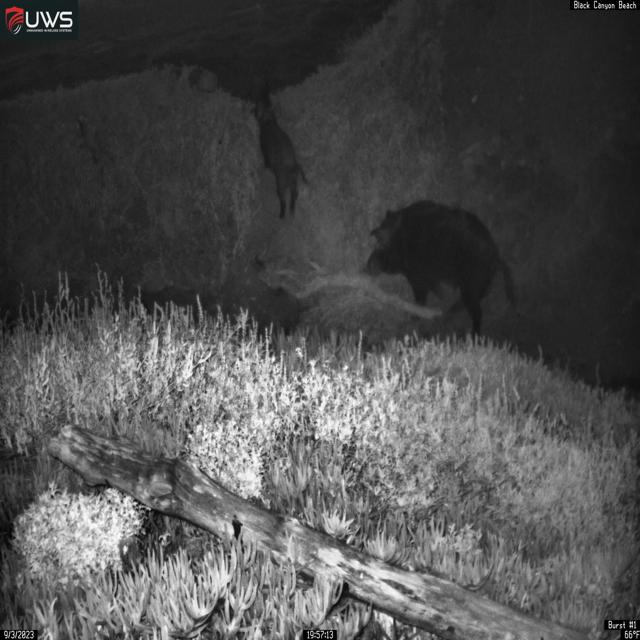pig: (363, 198, 516, 345)
